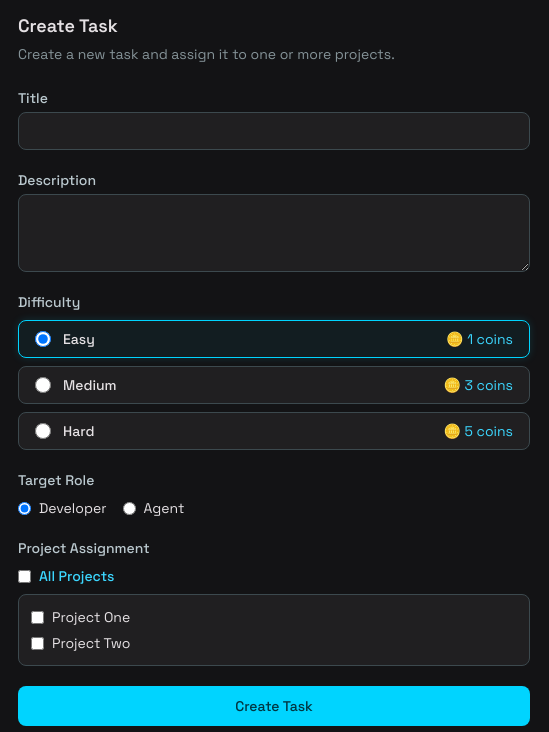
Test case: AdminTaskForm › shows validation errors for invalid form fields
Expected: the text "Project One" is shown, [31,608,130,626]
# Submit empty form
Click the button "Create Task": (274, 706) [18,686,530,726]
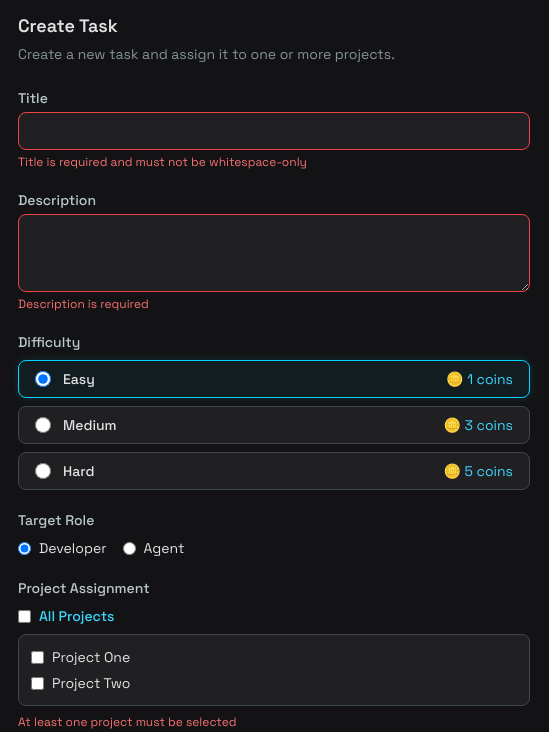
Expected: the text "Title is required and must not be whitespace-only" is shown, [18,154,307,170]
Expected: the text "Description is required" is shown, [18,296,149,312]
Expected: the text "At least one project must be selected" is shown, [18,714,236,730]
